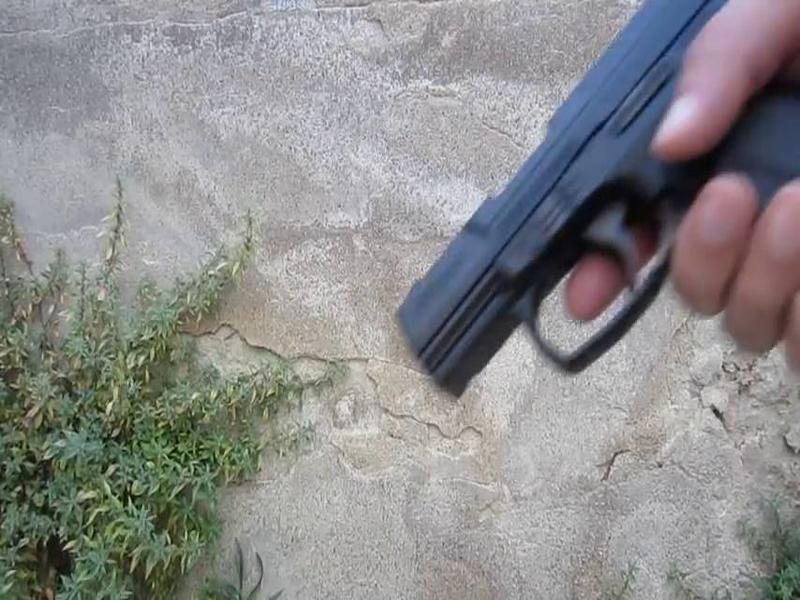Pistola: (377, 9, 793, 416)
